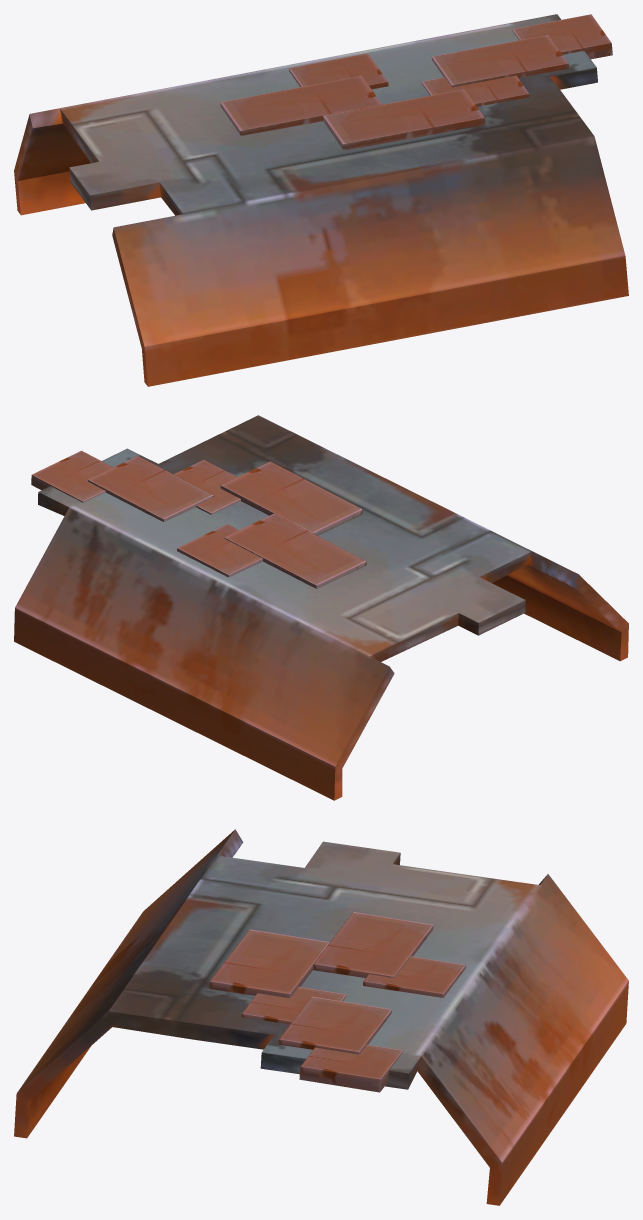
File: Debris_01_real.fbx
3 views of the same model, one above another, from view 1: azimuth 30°, elevation 25°; view 2: azimuth 150°, elevation 25°; view 3: azimuth 270°, elevation 25° (orthographic). The views are drawn at different scales.
Visible parts, largest first — view 1: Debris07; view 2: Debris07; view 3: Debris07.
Part boxes in pixels (x1,y1,x2,y2): Debris07: [14, 14, 628, 386]; Debris07: [14, 415, 628, 800]; Debris07: [14, 829, 628, 1205].
Size of the model in its own units: 29.6 by 26.7 by 8.76.
